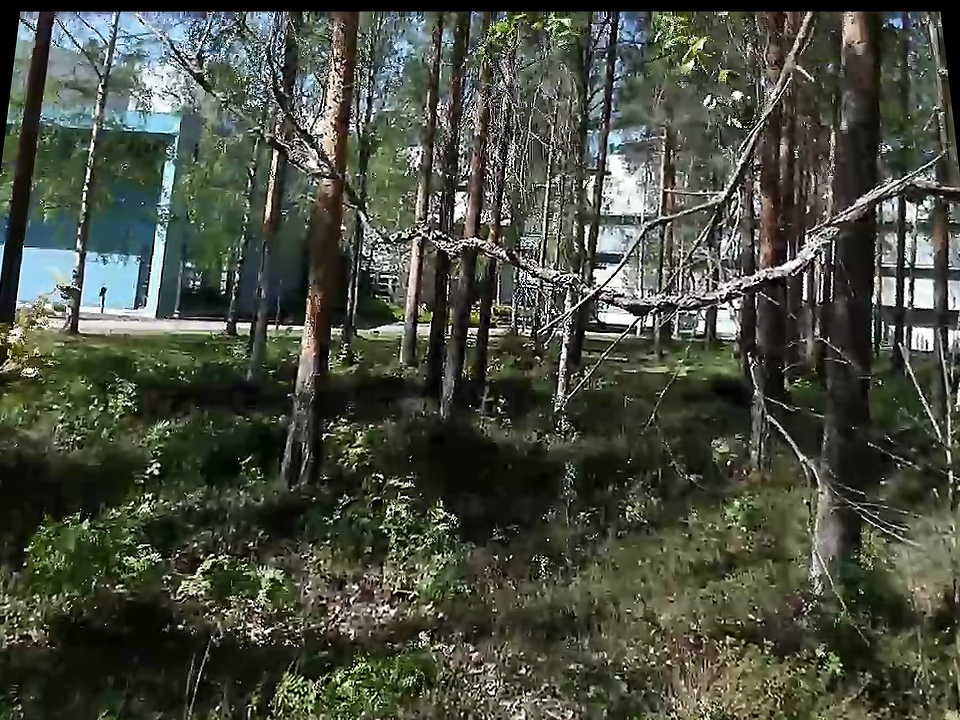branch: (432, 226, 562, 281), (533, 251, 634, 312)
trunk: (816, 15, 885, 595), (276, 214, 355, 480), (297, 18, 376, 240)
